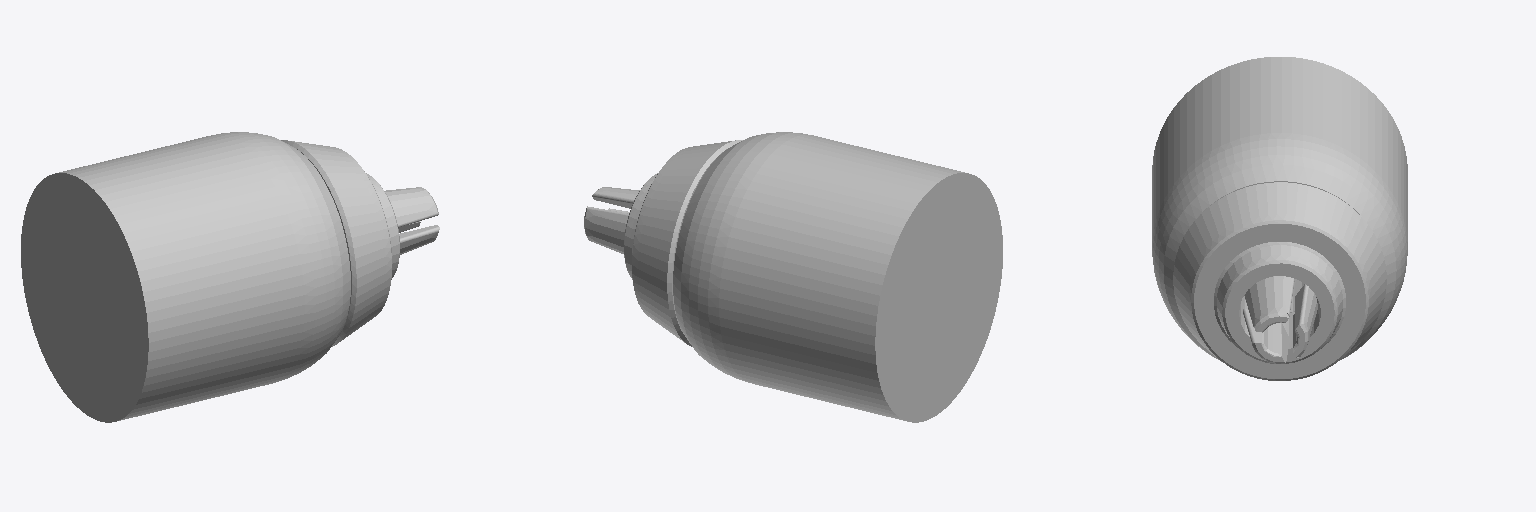
File: chuck.obj
3 renders of one model, left to right at view 1: azimuth 30°, elevation 25°; view 2: azimuth 150°, elevation 25°; view 3: azimuth 270°, elevation 25°, orthographic.
Visible parts, largest first — view 1: chuck_imagetostl_mesh0.001; view 2: chuck_imagetostl_mesh0.001; view 3: chuck_imagetostl_mesh0.001.
Boxes of the visible parts, x1=… form: chuck_imagetostl_mesh0.001: x1=21, y1=132, x2=439, y2=422; chuck_imagetostl_mesh0.001: x1=584, y1=132, x2=1002, y2=422; chuck_imagetostl_mesh0.001: x1=1152, y1=57, x2=1407, y2=380.
Size of the model in its own units: 0.0657 by 0.0425 by 0.0425.